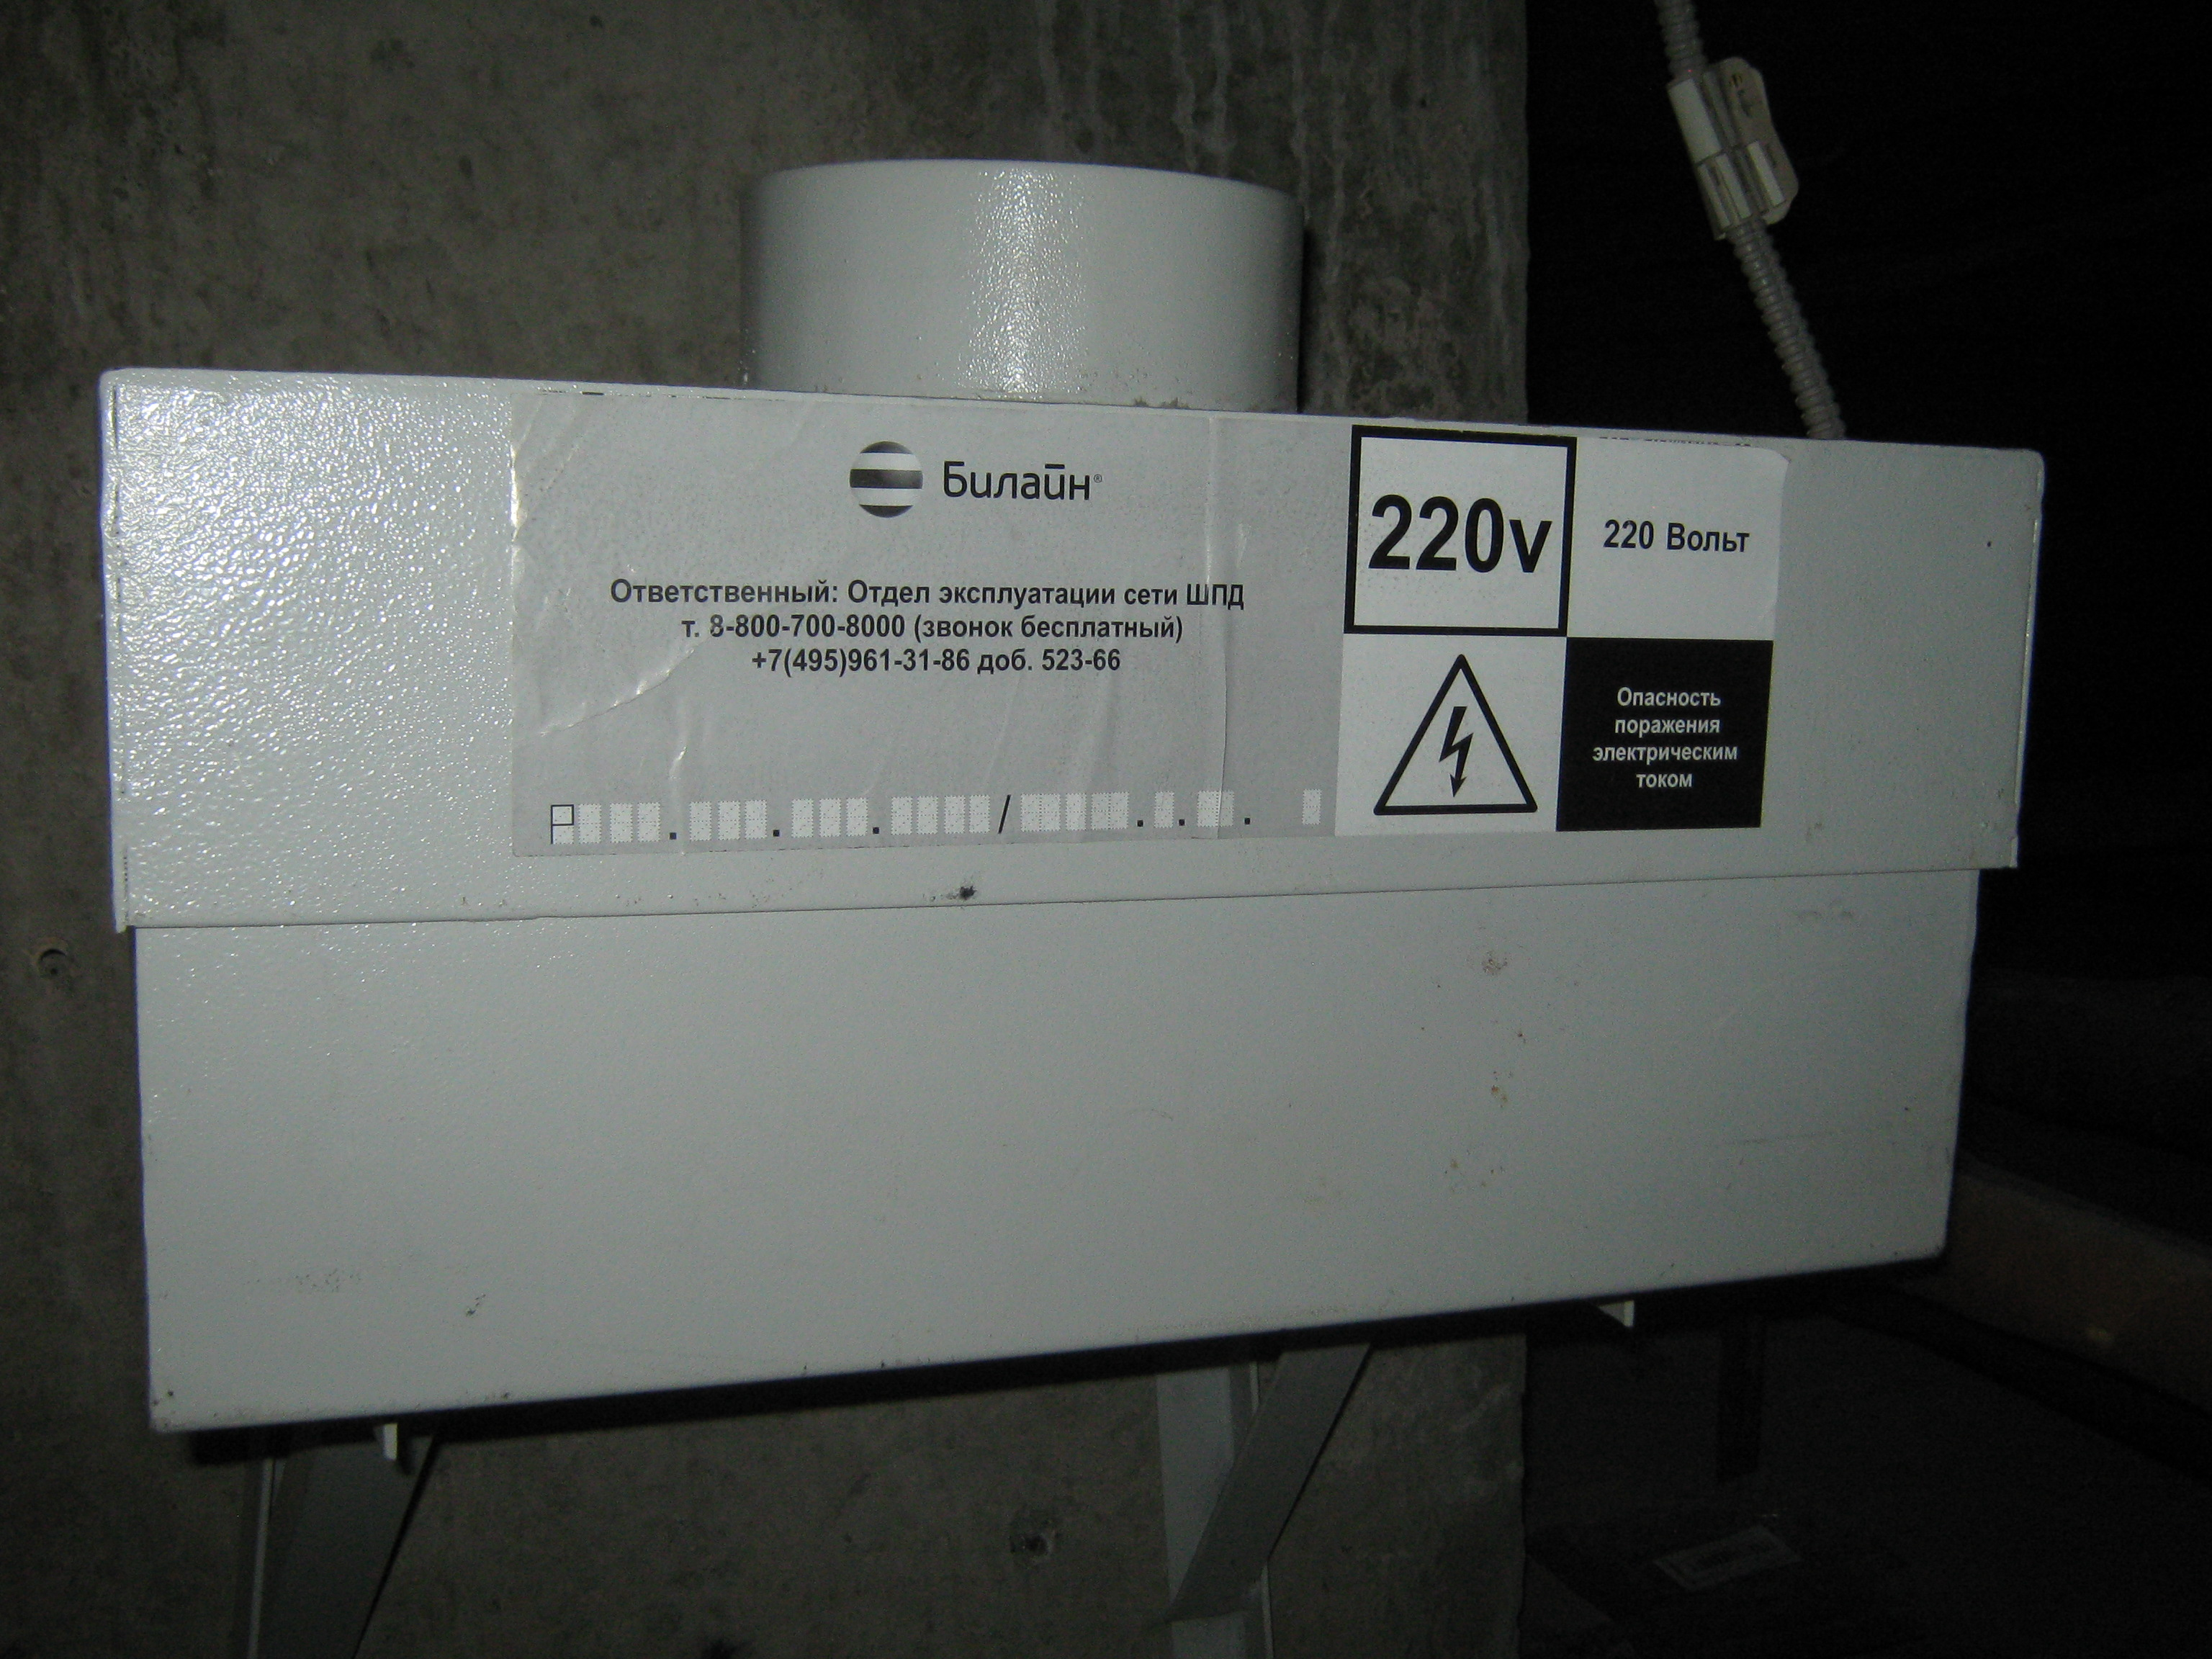shta-ps: (75, 115, 2083, 1485)
